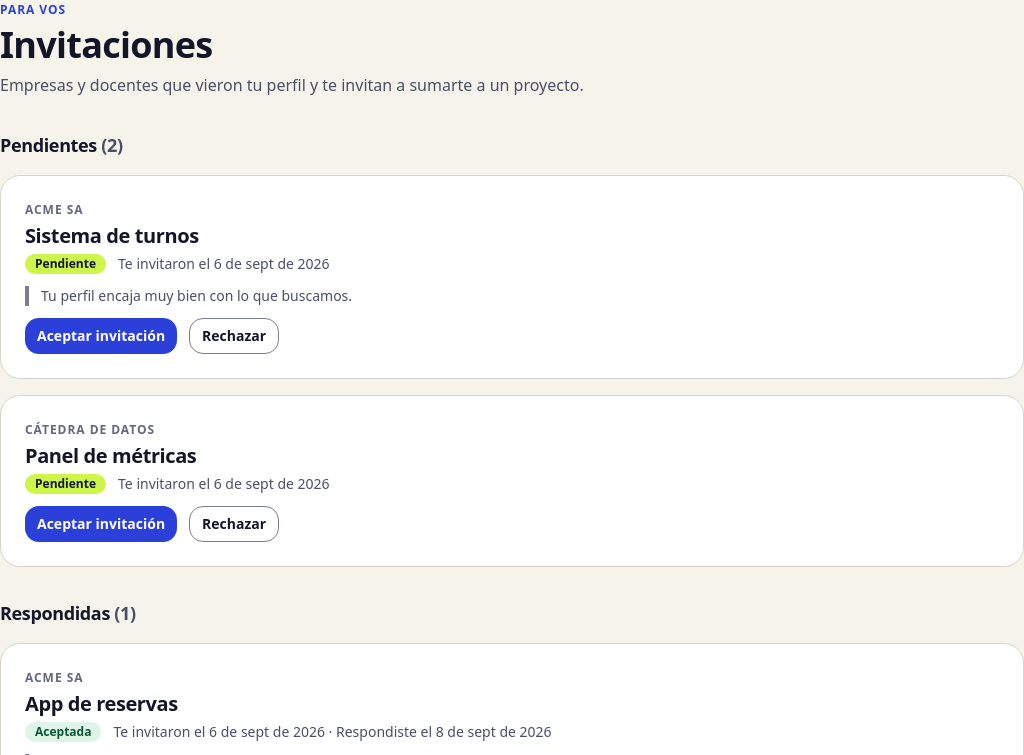
InvitacionesPage › aceptar › si ya no se puede (409) muestra el motivo, deja el diálogo abierto y refresca el listado
Expected: the link "Sistema de turnos" is shown, [25,222,199,249]
What coordinates should you click on to do the following:
click the button "Aceptar invitación" below "Sistema de turnos"
I would click on:
 (101, 336)
Its box is [25,318,177,354].
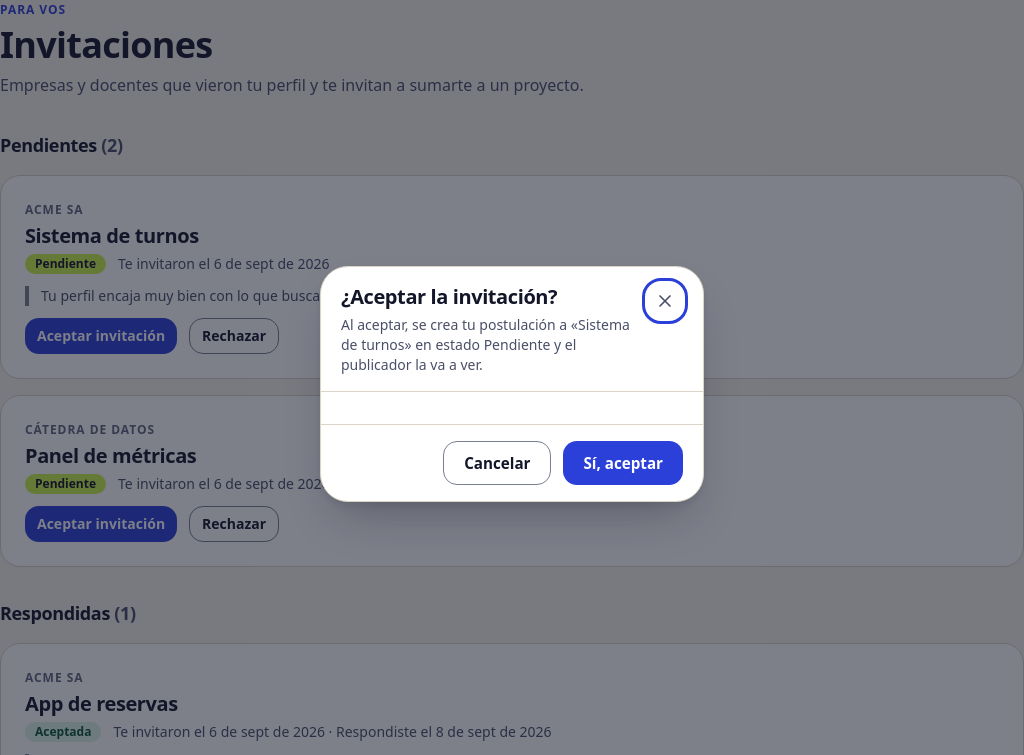
What coordinates should you click on to do the following:
click the button "Sí, aceptar"
I would click on:
 (623, 463)
Its box is [564,441,683,485].
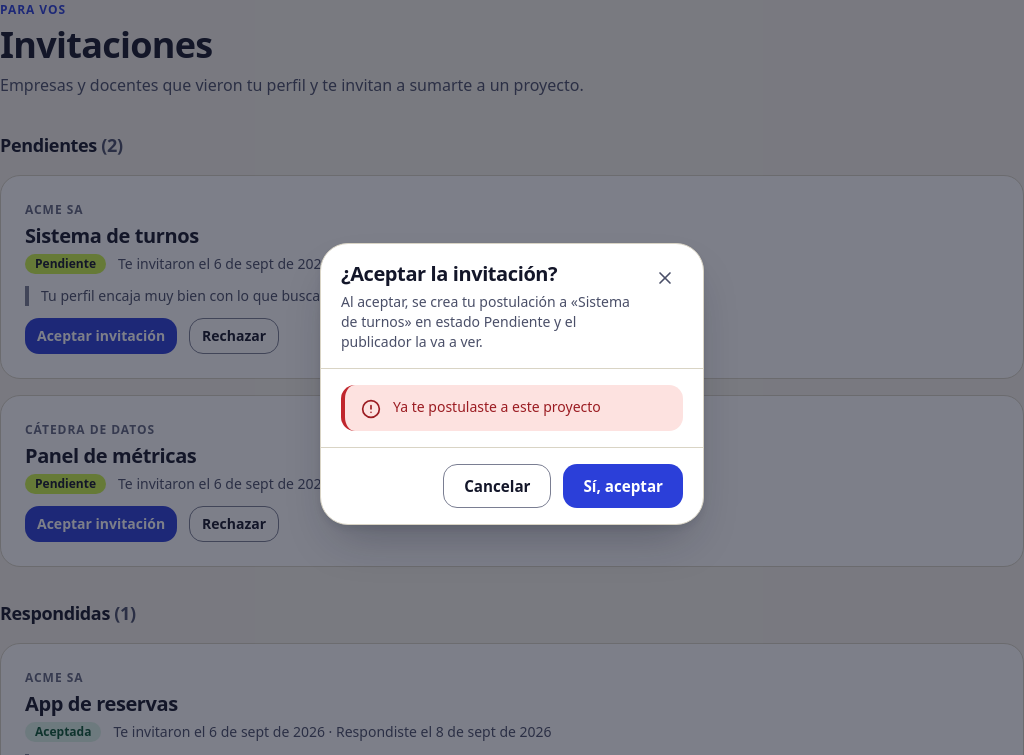
Result: the text "Ya te postulaste a este proyecto" is shown at [393,397,601,417]
